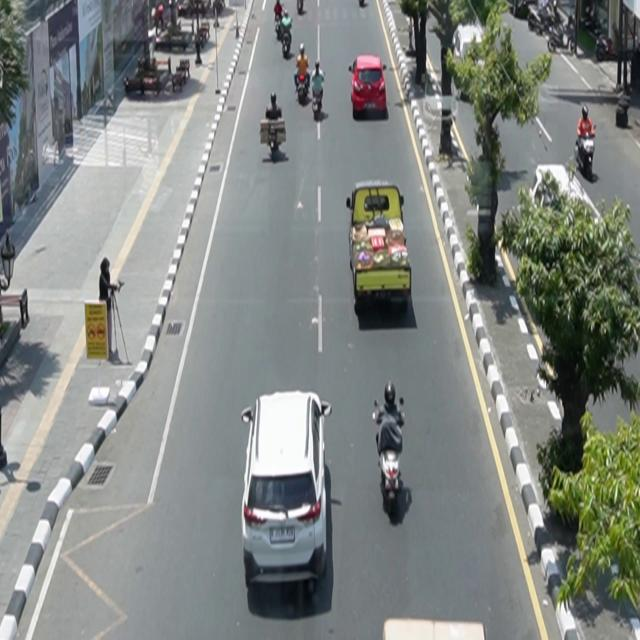car: (241, 390, 333, 596), (347, 181, 413, 313), (349, 55, 388, 118)
